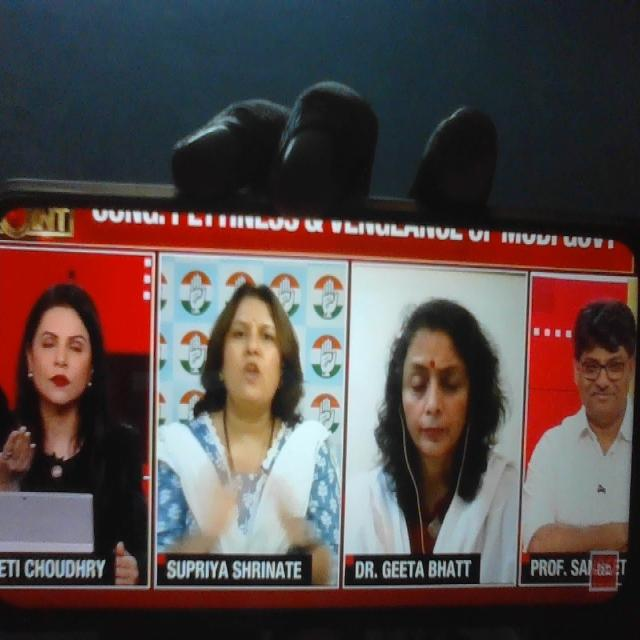fake: (377, 288, 487, 496)
